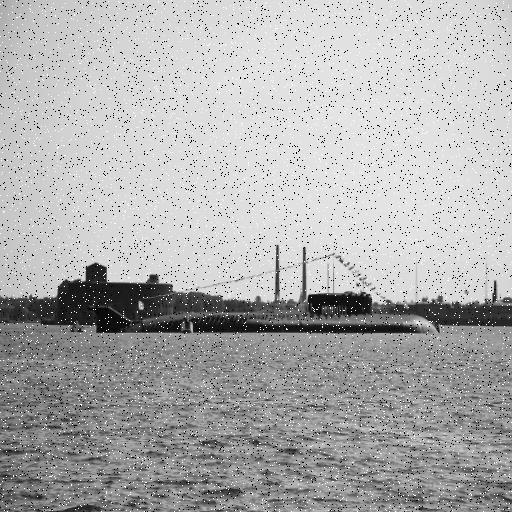submarine: (97, 294, 443, 332)
